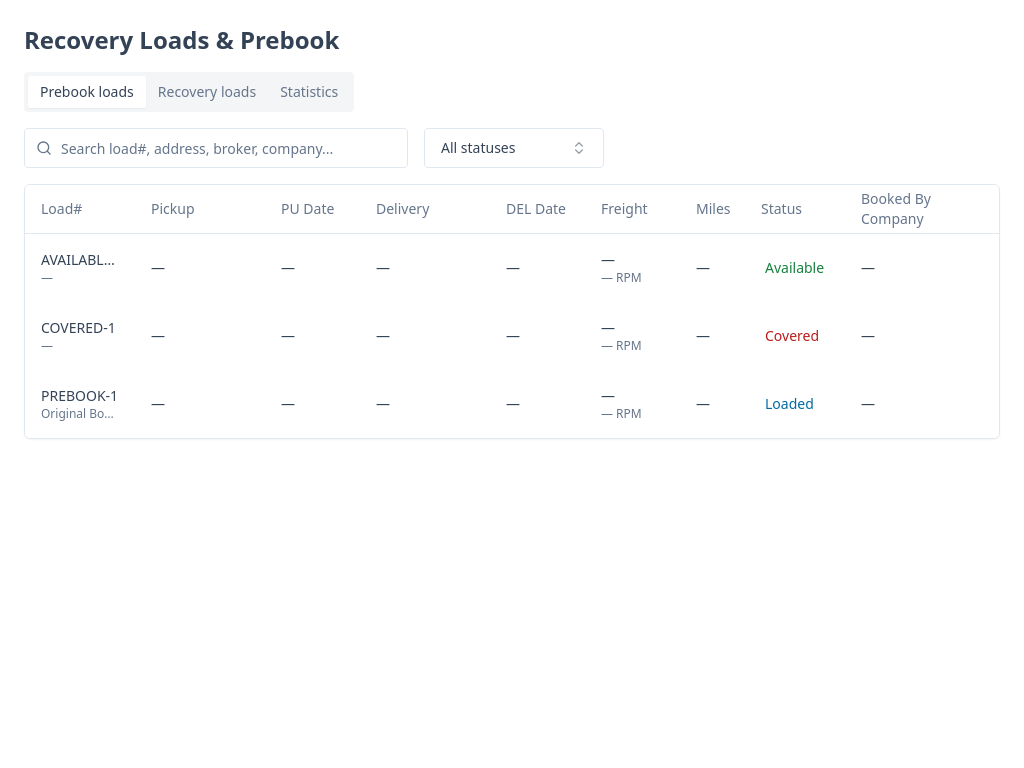
Test: shows manager performance only to admin, checking manager
Expected: the text "PREBOOK-1" is shown, [41, 386, 118, 406]
Press the mouse on the tab "Statistics" at [309, 92], box [268, 76, 350, 108]
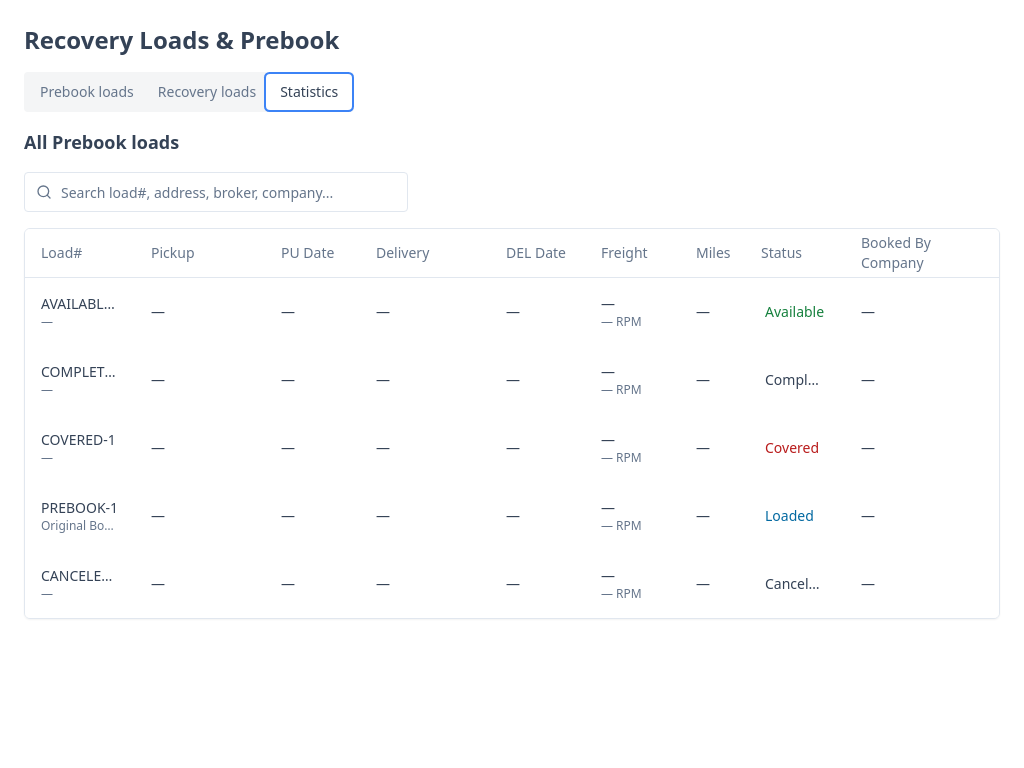
Result: the heading "All Prebook loads" is shown at [24, 130, 179, 154]
